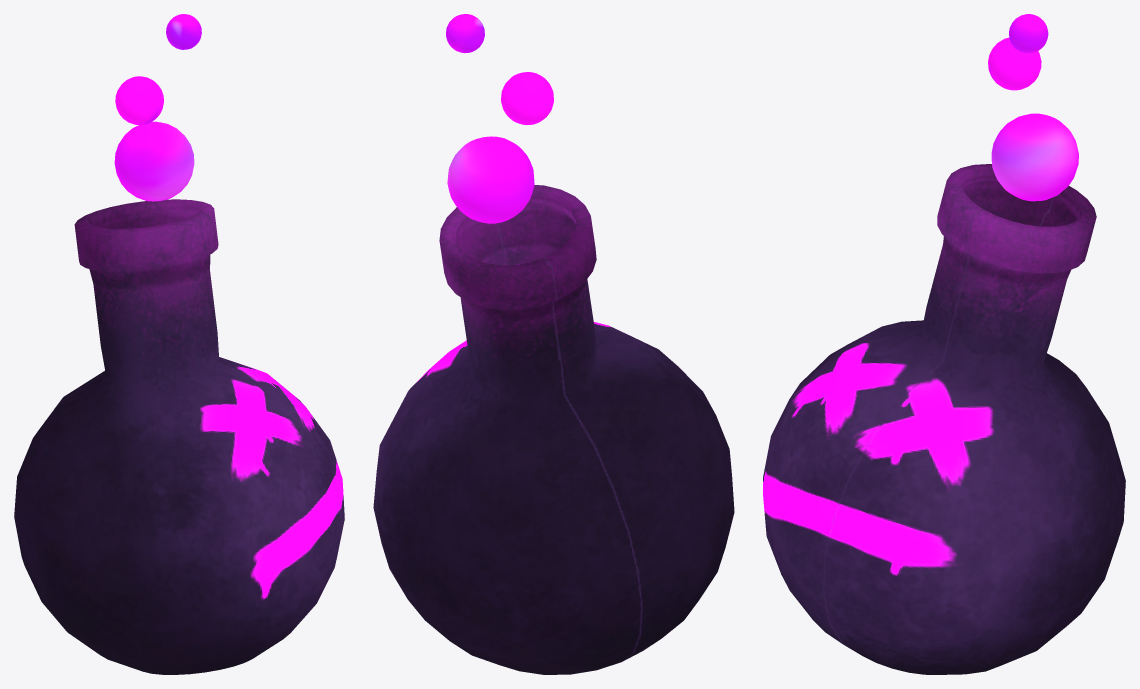
The model's file is Liquid_Form.glb.
3 renders of one model, left to right at view 1: azimuth 30°, elevation 25°; view 2: azimuth 150°, elevation 25°; view 3: azimuth 270°, elevation 25°, orthographic. The views are drawn at different scales.
Visible parts, largest first — view 1: Object_3, Object_2; view 2: Object_3, Object_2; view 3: Object_3, Object_2.
Boxes of the visible parts, x1,y1,x2,y2 form: Object_3: (14, 199, 344, 674); Object_2: (114, 14, 201, 201); Object_3: (373, 185, 734, 674); Object_2: (446, 14, 553, 223); Object_3: (763, 164, 1125, 674); Object_2: (988, 14, 1078, 201).
Bounding box in the file's own units: 0.1328 × 0.268 × 0.1325.
3 materials, 3 textured.
